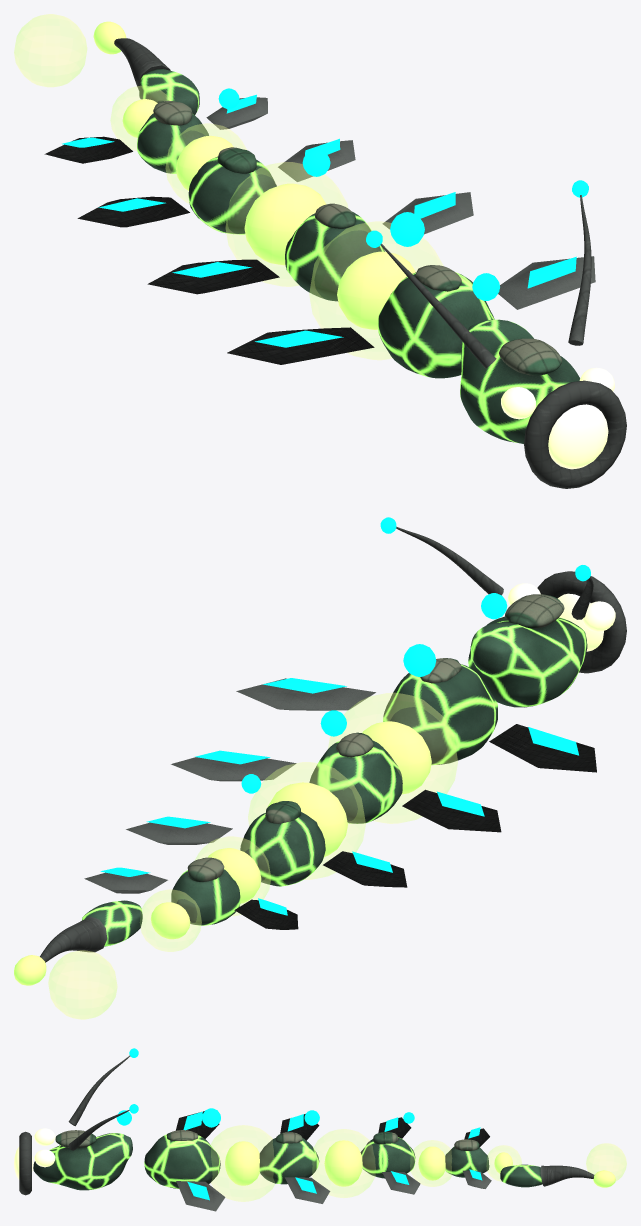
File: enemy_leviathan.glb
3 views of the same model, one above another, from view 1: azimuth 30°, elevation 25°; view 2: azimuth 150°, elevation 25°; view 3: azimuth 270°, elevation 25° (orthographic). The views are drawn at different scales.
Parts seen in each view (by area): view 1: head, seg0, seg1, Sphere.001, seg2, Sphere.003, seg3, tailhalo, Sphere.002, Sphere, tail, Sphere.005 (+4 smaller); view 2: head, seg0, seg1, seg2, Sphere.001, Sphere.003, seg3, tail, tailhalo, Sphere.007, Sphere.005, Sphere (+4 smaller); view 3: head, seg0, Sphere.001, seg1, Sphere.003, seg2, seg3, tail, Sphere.005, Sphere.002, Sphere, tailhalo (+4 smaller).
Part boxes in pixels (left/top/right/bottom): head: left=366, top=180, right=626, bottom=488; seg0: left=227, top=256, right=595, bottom=378; seg1: left=147, top=192, right=473, bottom=301; Sphere.001: left=309, top=221, right=443, bottom=359; seg2: left=77, top=138, right=355, bottom=234; Sphere.003: left=225, top=162, right=347, bottom=286; seg3: left=44, top=94, right=267, bottom=173; tailhalo: left=14, top=14, right=86, bottom=86; Sphere.002: left=244, top=183, right=326, bottom=265; Sphere: left=337, top=251, right=415, bottom=329; tail: left=93, top=21, right=199, bottom=115; Sphere.005: left=165, top=123, right=246, bottom=203; head: left=380, top=517, right=626, bottom=707; seg0: left=236, top=658, right=596, bottom=772; seg1: left=171, top=732, right=501, bottom=832; seg2: left=126, top=801, right=407, bottom=887; Sphere.001: left=328, top=693, right=457, bottom=823; Sphere.003: left=248, top=762, right=365, bottom=879; seg3: left=84, top=857, right=298, bottom=929; tail: left=14, top=900, right=142, bottom=985; tailhalo: left=48, top=950, right=117, bottom=1019; Sphere.007: left=140, top=889, right=201, bottom=951; Sphere.005: left=195, top=836, right=270, bottom=915; Sphere: left=362, top=721, right=431, bottom=794; head: left=14, top=1048, right=138, bottom=1195; seg0: left=144, top=1111, right=225, bottom=1211; Sphere.001: left=210, top=1125, right=274, bottom=1201; seg1: left=259, top=1114, right=330, bottom=1203; Sphere.003: left=312, top=1129, right=375, bottom=1197; seg2: left=360, top=1117, right=420, bottom=1194; seg3: left=445, top=1127, right=491, bottom=1188; tail: left=500, top=1164, right=615, bottom=1187; Sphere.005: left=410, top=1140, right=452, bottom=1186; Sphere.002: left=324, top=1140, right=362, bottom=1186; Sphere: left=225, top=1141, right=259, bottom=1185; tailhalo: left=586, top=1143, right=626, bottom=1181.
Size of the model in its own units: 1.24 by 0.6954 by 3.17.
10 materials, 2 textured.
